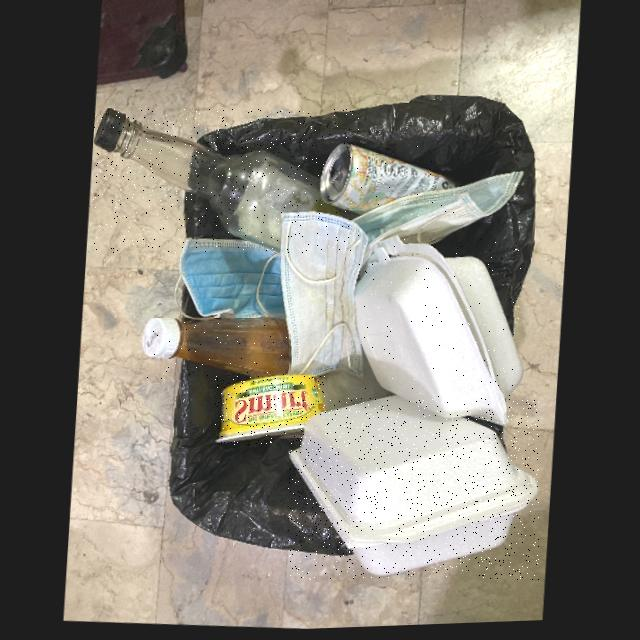glass: (93, 109, 359, 253), (142, 318, 290, 380)
metal: (320, 146, 455, 217)
plastic: (215, 377, 325, 445)
styrofoam: (288, 398, 539, 580), (354, 239, 523, 429)
